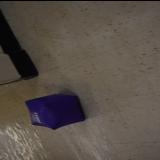cube: (24, 92, 86, 128)
